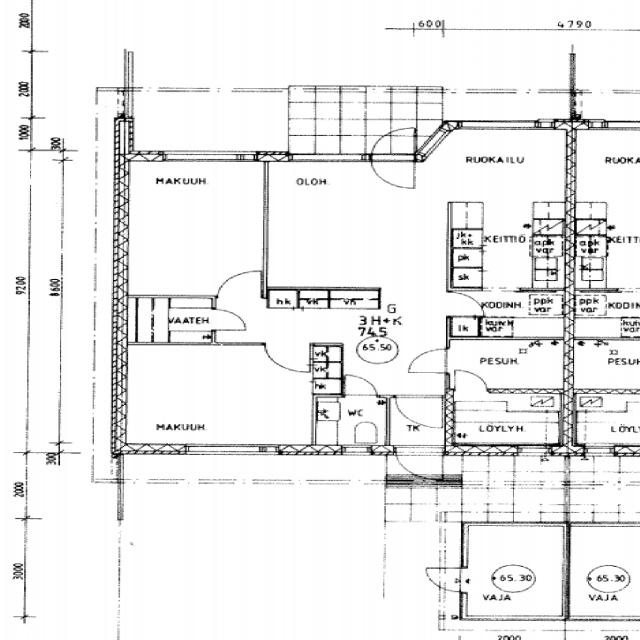door: (396, 445, 443, 486), (371, 153, 414, 189), (371, 126, 414, 161), (396, 395, 441, 427), (266, 342, 308, 373), (218, 268, 260, 298), (422, 568, 467, 591), (408, 349, 450, 373), (445, 292, 487, 315), (345, 374, 378, 398), (212, 308, 249, 329), (455, 369, 486, 394)
